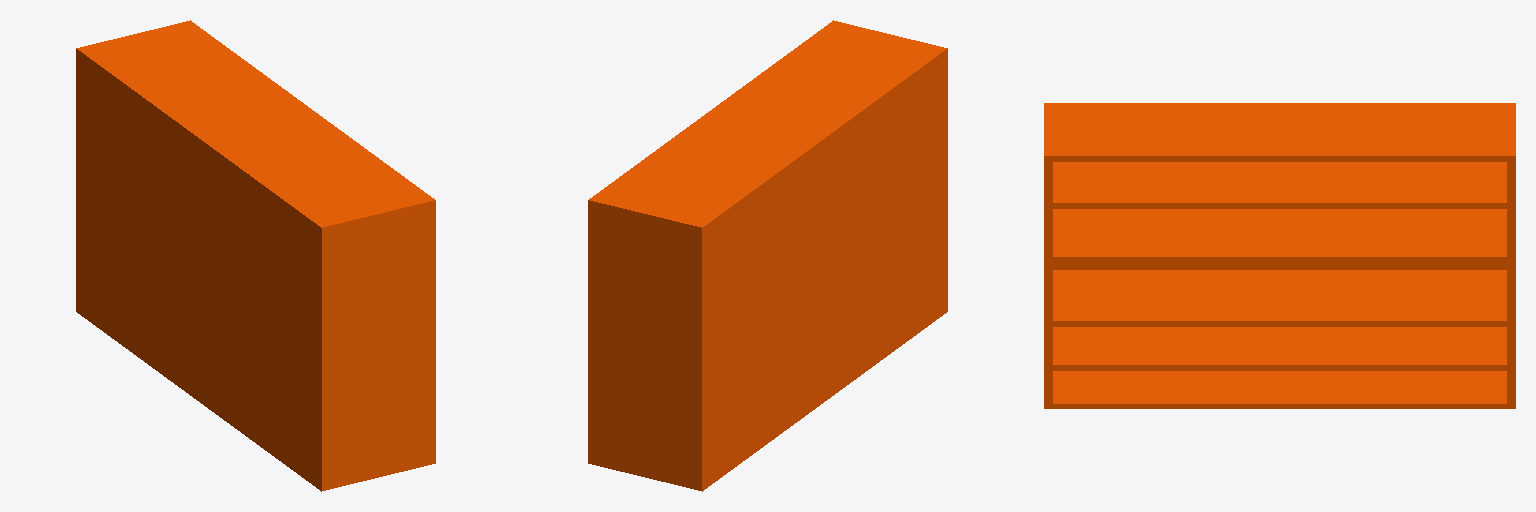
URDF robot description (5Shelves_9ba6a44ad22d6ce192e0b07fda7527d0):
<?xml version="1.0" ?>
<robot name="5Shelves_9ba6a44ad22d6ce192e0b07fda7527d0">
   <material name="obj_color">
      <color rgba="1.0 0.423529411765 0.0392156862745 1.0"/>
   </material>
   <link name="top">
      <inertial>
         <origin rpy="0.002442936242369638 0.006180495868251783 0.007789884272562063" xyz="0.005105500000000002 0.0007209999999999913 0.001679"/>
         <mass value="1.518639654945151"/>
         <inertia ixx="0.007789884272562063" ixy="-2.269783600845508e-19" ixz="3.242548001207868e-21" iyy="0.002442936242369637" iyz="-4.661162751736311e-20" izz="0.006180495868251784"/>
      </inertial>
      <visual>
         <origin rpy="0 0 0" xyz="0 0 0"/>
         <geometry>
            <mesh filename="top_watertight_tiny.stl" scale="1 1 1"/>
         </geometry>
         <material name="obj_color"/>
      </visual>
      <collision>
         <origin rpy="0 0 0" xyz="0 0 0"/>
         <geometry>
            <mesh filename="top_watertight_tiny.obj" scale="1 1 1"/>
         </geometry>
      </collision>
   </link>
   <link name="bottom">
      <inertial>
         <origin rpy="1.633333333199431e-08 1.633333333199431e-08 1.633333333362855e-08" xyz="0.3464080000000008 0.3464080000000008 0.3464080000000008"/>
         <mass value="0.0009800000000000017"/>
         <inertia ixx="1.633333333253906e-08" ixy="5.447480642029219e-19" ixz="5.447480642029219e-19" iyy="1.633333333253906e-08" iyz="5.447480642029219e-19" izz="1.633333333253906e-08"/>
      </inertial>
      <visual>
         <origin rpy="0 0 0" xyz="0 0 0"/>
         <geometry>
            <mesh filename="bottom_watertight_tiny.stl" scale="1 1 1"/>
         </geometry>
         <material name="obj_color"/>
      </visual>
   </link>
   <link name="world"/>
   <joint name="world_to_base" type="fixed">
      <origin xyz="0 0 0"/>
      <axis xyz="0 0 0"/>
      <parent link="world"/>
      <child link="bottom"/>
   </joint>
   <joint name="rotation" type="revolute">
      <origin xyz="0 0 0"/>
      <axis xyz="0 0 -1"/>
      <parent link="bottom"/>
      <child link="top"/>
      <dynamics damping="1.0" friction="1.0"/>
      <limit effort="0.1" velocity="0.1" lower="0" upper="0.001"/>
   </joint>
</robot>

--- Facts derived from the render (not from the file) ---
The picture shows the robot from 3 angles, left to right: view 1: azimuth 30°, elevation 25°; view 2: azimuth 150°, elevation 25°; view 3: azimuth 270°, elevation 25°; orthographic projection.
Model 5Shelves_9ba6a44ad22d6ce192e0b07fda7527d0 with 3 links and 2 joints (1 revolute, 1 fixed), rooted at world, posed all joints at 0.
Visible links, largest first — view 1: top; view 2: top; view 3: top.
Link boxes in pixels (x1,y1,x2,y2): top: [76, 20, 435, 491]; top: [588, 20, 947, 491]; top: [1044, 103, 1515, 408].
Bounding box of the posed robot: 0.0574 × 0.2134 × 0.1265 m (x, y, z).
Meshes: 2 distinct files referenced, 1 mesh visuals loaded (1 binary STL); not drawn: 1 (reference not matched to a file when rendering).
